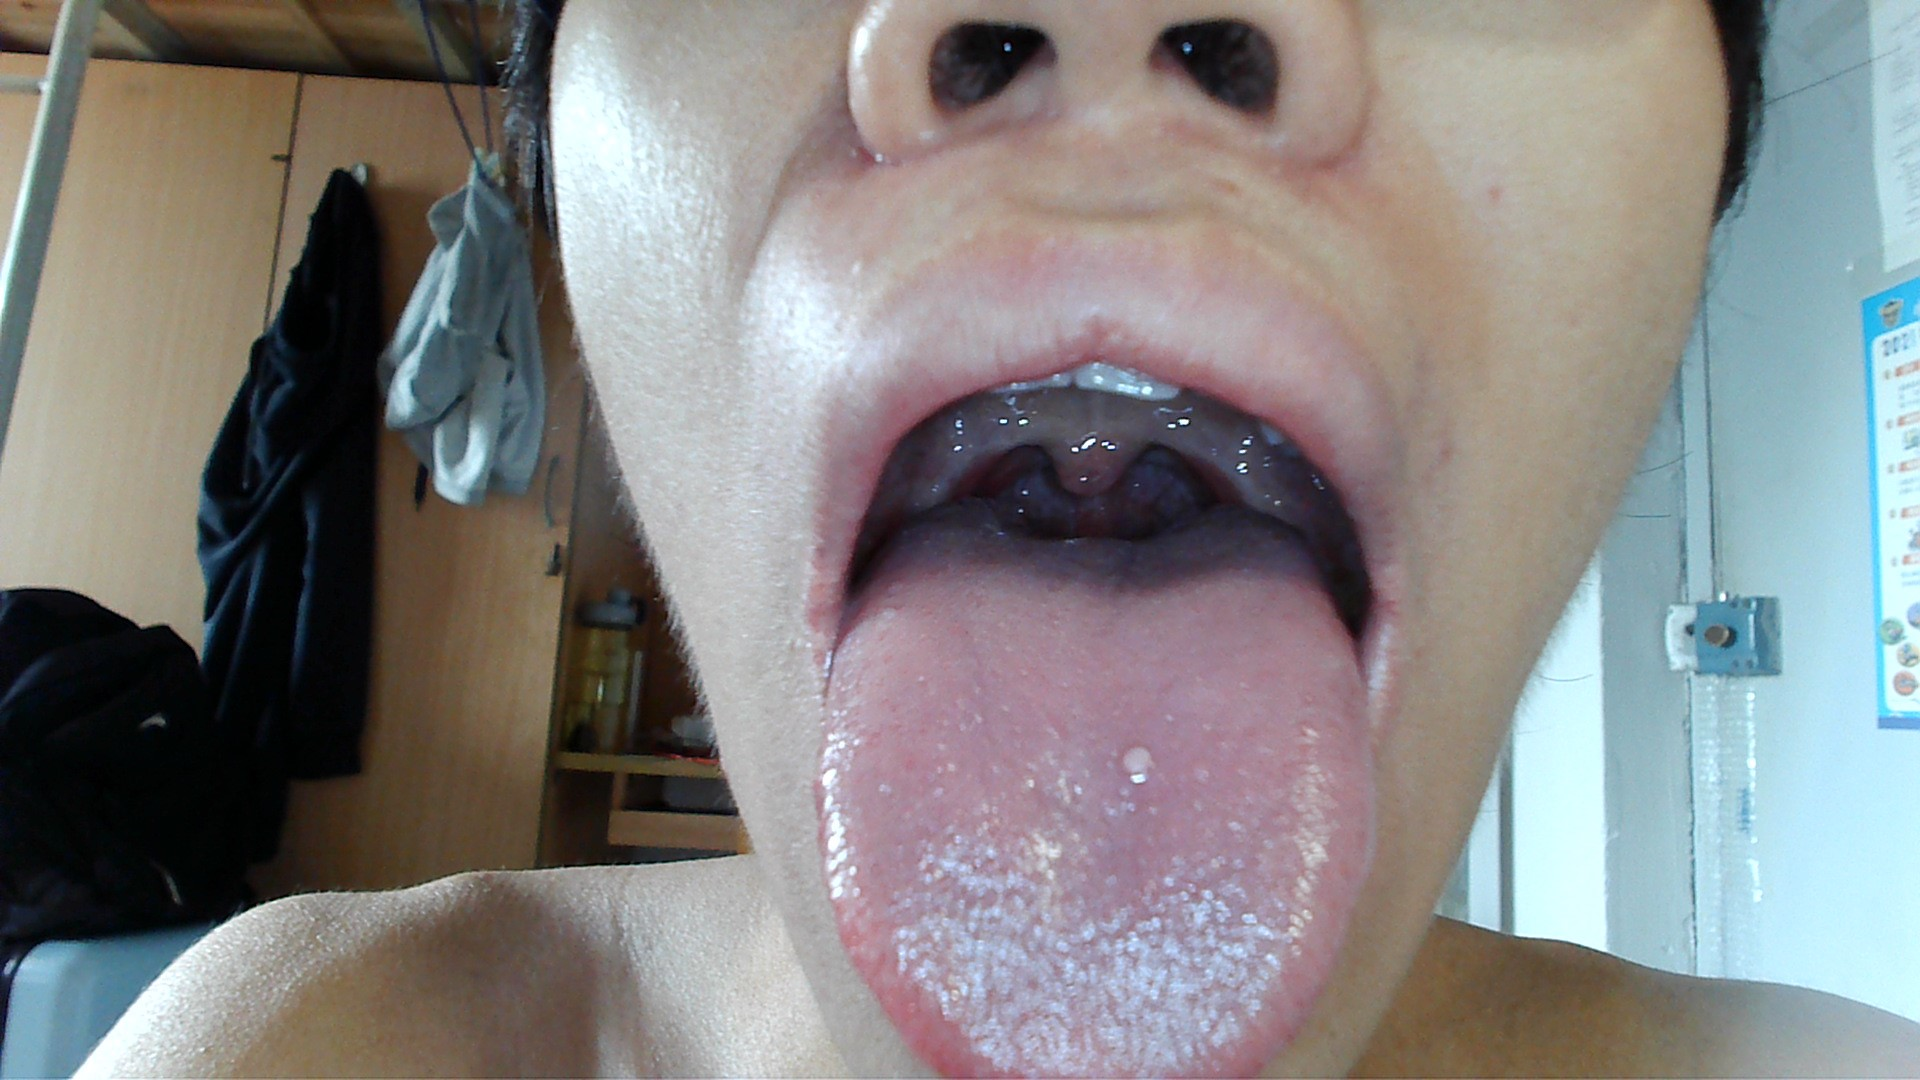throat: (1182, 404, 1242, 508), (922, 440, 1014, 500)
